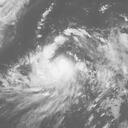cyclone: (30, 52, 74, 92)
